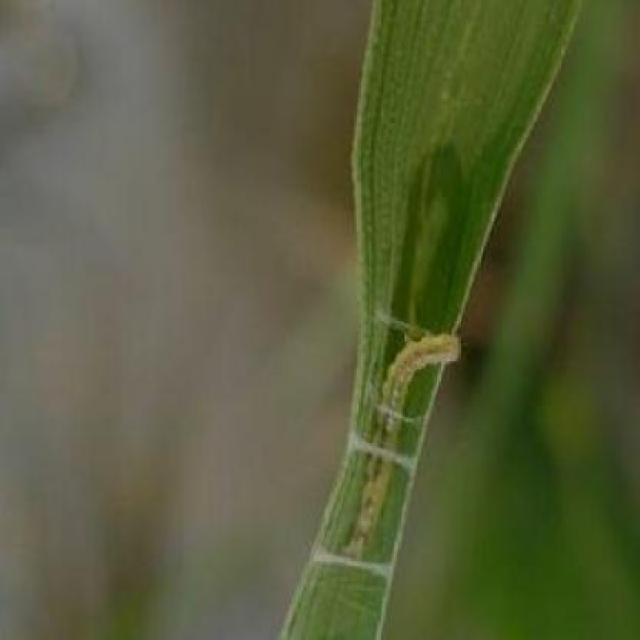leaf-folder: (331, 300, 475, 572)
